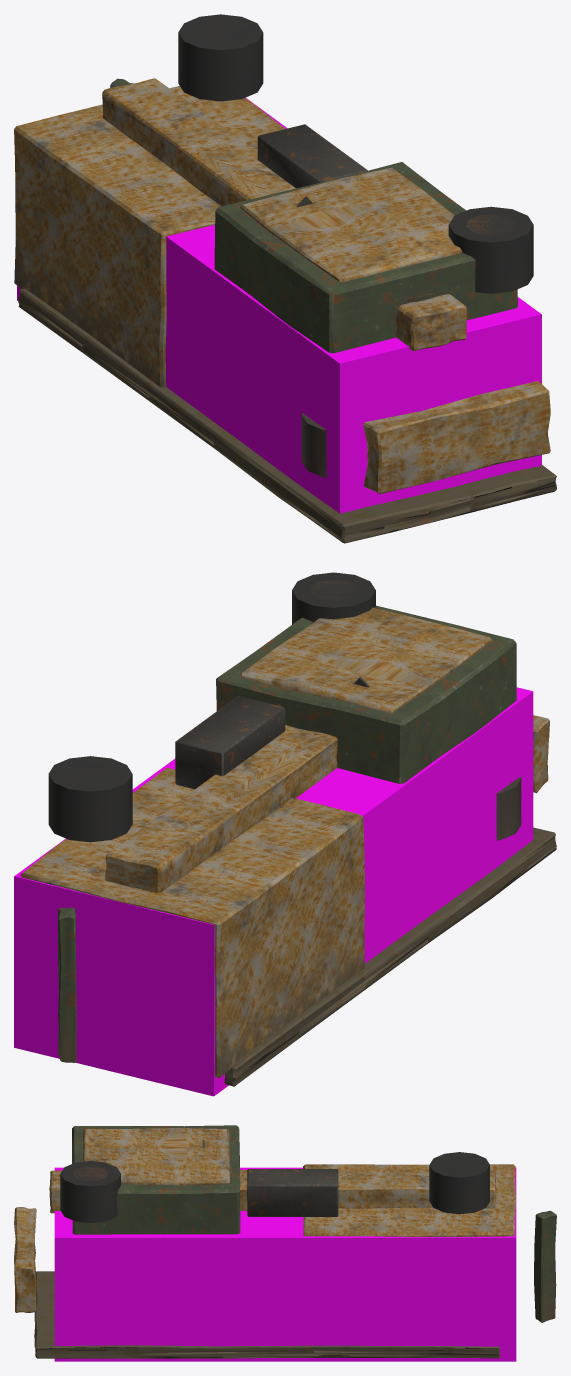
Rendered from prop_car_wreck_02_lod.glb.
The picture shows the model from 3 angles, top to bottom: view 1: azimuth 30°, elevation 25°; view 2: azimuth 150°, elevation 25°; view 3: azimuth 270°, elevation 25°; orthographic projection. The views are drawn at different scales.
Parts seen in each view (by area): view 1: Car.001, prop_car_wreck_02_lod-col; view 2: Car.001, prop_car_wreck_02_lod-col; view 3: prop_car_wreck_02_lod-col, Car.001.
Boxes of the visible parts, x1,y1,x2,y2 form: Car.001: [14, 14, 556, 543]; prop_car_wreck_02_lod-col: [17, 97, 541, 513]; Car.001: [20, 572, 556, 1086]; prop_car_wreck_02_lod-col: [14, 687, 533, 1096]; prop_car_wreck_02_lod-col: [54, 1167, 516, 1361]; Car.001: [14, 1125, 556, 1358].
Bounding box in the file's own units: 1.83 × 2.03 × 5.37.
2 materials, 1 textured.
